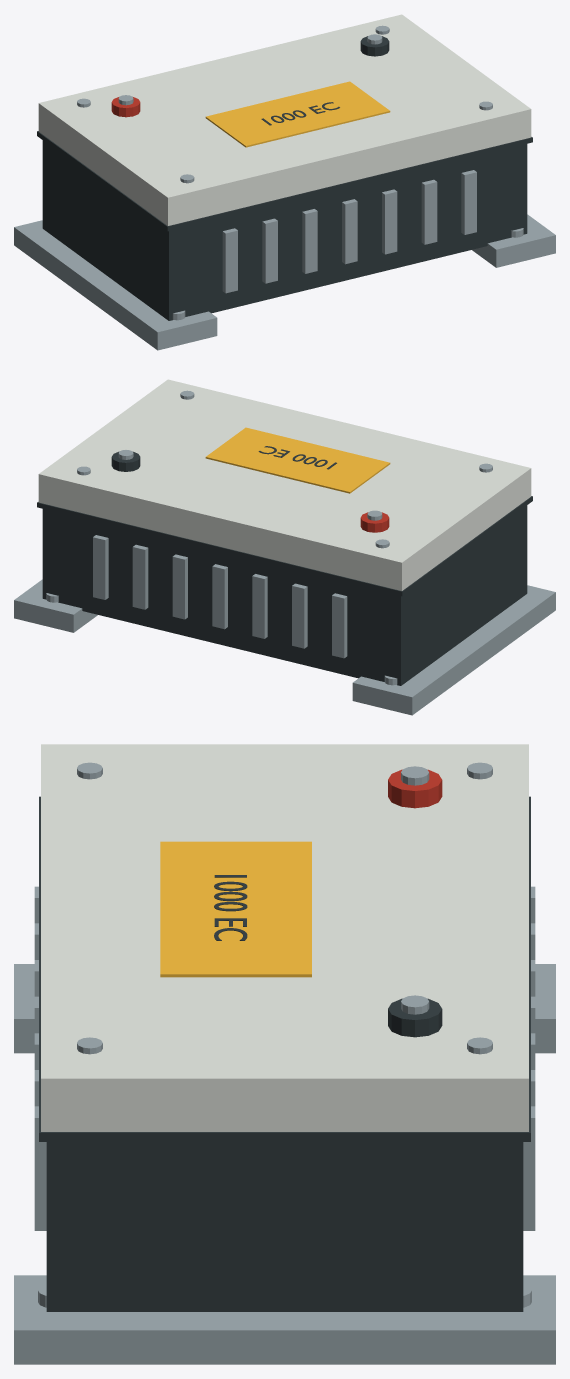
The model's file is battery.glb.
3 views of the same model, one above another, from view 1: azimuth 30°, elevation 25°; view 2: azimuth 150°, elevation 25°; view 3: azimuth 270°, elevation 25° (orthographic). The views are drawn at different scales.
Parts seen in each view (by area): view 1: Sealed lid, Lower battery enclosure, Structural mounting shoe, Electrical nameplate, Lid gasket, Structural mounting shoe.001, Cooling rib.010, Cooling rib.002, Cooling rib.006, Cooling rib.008, Cooling rib, Cooling rib.012 (+3 smaller); view 2: Sealed lid, Lower battery enclosure, Structural mounting shoe, Electrical nameplate, Lid gasket, Structural mounting shoe.001, Cooling rib.011, Cooling rib.003, Cooling rib.007, Cooling rib.009, Cooling rib.001, Cooling rib.013 (+3 smaller); view 3: Sealed lid, Lower battery enclosure, Structural mounting shoe.001, Electrical nameplate, Lid gasket, Structural mounting shoe, Insulated terminal collar.001, Insulated terminal collar, Cooling rib.012, Cooling rib.013, Capacity marking.
Boxes of the visible parts, box(x1,y1,x2,y2) form: Sealed lid: box(38, 14, 531, 225); Lower battery enclosure: box(42, 140, 527, 320); Structural mounting shoe: box(14, 220, 217, 350); Electrical nameplate: box(205, 81, 390, 147); Lid gasket: box(37, 131, 532, 231); Structural mounting shoe.001: box(472, 214, 555, 267); Cooling rib.010: box(421, 179, 437, 244); Cooling rib.002: box(262, 218, 277, 283); Cooling rib.006: box(342, 199, 357, 264); Cooling rib.008: box(382, 189, 397, 254); Cooling rib: box(222, 228, 237, 293); Cooling rib.012: box(461, 170, 476, 234); Sealed lid: box(38, 379, 531, 590); Lower battery enclosure: box(42, 505, 527, 685); Structural mounting shoe: box(352, 585, 555, 715); Electrical nameplate: box(205, 427, 390, 493); Lid gasket: box(37, 496, 532, 596); Structural mounting shoe.001: box(14, 579, 97, 632); Cooling rib.011: box(132, 544, 148, 609); Cooling rib.003: box(292, 583, 307, 648); Cooling rib.007: box(212, 564, 227, 629); Cooling rib.009: box(172, 554, 187, 619); Cooling rib.001: box(332, 593, 347, 658); Cooling rib.013: box(93, 535, 108, 599); Sealed lid: box(41, 744, 528, 1131); Lower battery enclosure: box(46, 1142, 523, 1311); Structural mounting shoe.001: box(14, 1275, 555, 1364); Electrical nameplate: box(160, 841, 311, 977); Lid gasket: box(39, 796, 530, 1141); Structural mounting shoe: box(14, 964, 555, 1053); Insulated terminal collar.001: box(388, 998, 442, 1037); Insulated terminal collar: box(388, 769, 442, 808); Cooling rib.012: box(34, 1106, 46, 1230); Cooling rib.013: box(523, 1106, 535, 1230); Capacity marking: box(214, 875, 247, 940).
Bounding box in the file's own units: 0.8 × 0.3 × 0.5.
